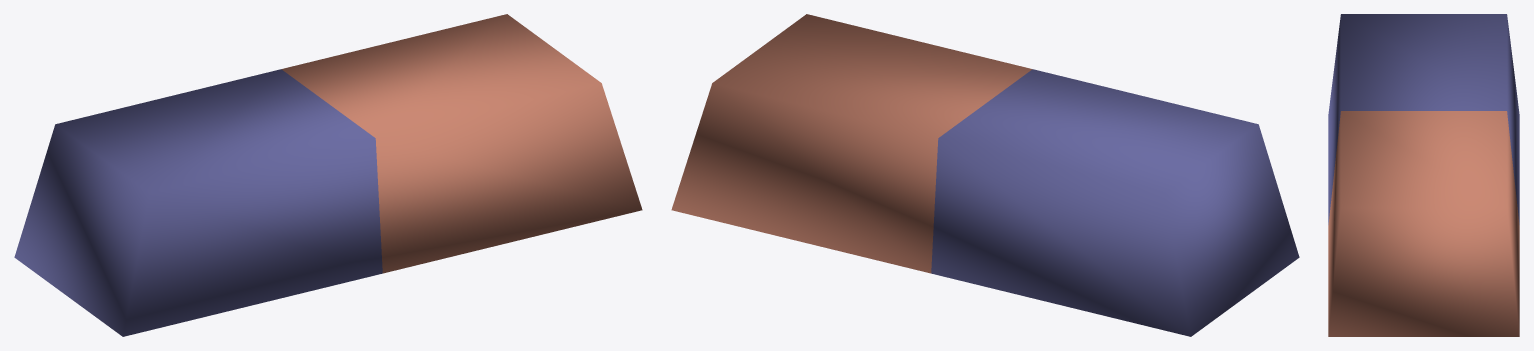
The model's file is magnet.fbx.
The picture shows the model from 3 angles, left to right: view 1: azimuth 30°, elevation 25°; view 2: azimuth 150°, elevation 25°; view 3: azimuth 270°, elevation 25°; orthographic projection. The views are drawn at different scales.
Visible parts, largest first — view 1: Cube.008; view 2: Cube.008; view 3: Cube.008.
Part boxes in pixels (x1,y1,x2,y2): Cube.008: [14, 14, 642, 336]; Cube.008: [671, 14, 1299, 336]; Cube.008: [1328, 14, 1519, 336].
Bounding box in the file's own units: 79.25 × 18.97 × 28.68.
